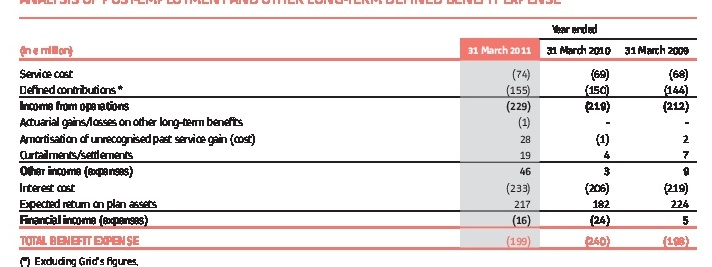table: (0, 0, 712, 267)
